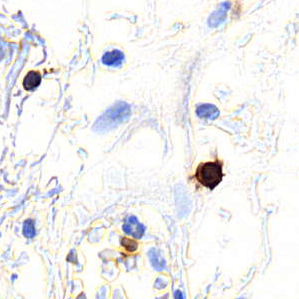Lymphocyte: (193, 159, 224, 189)
